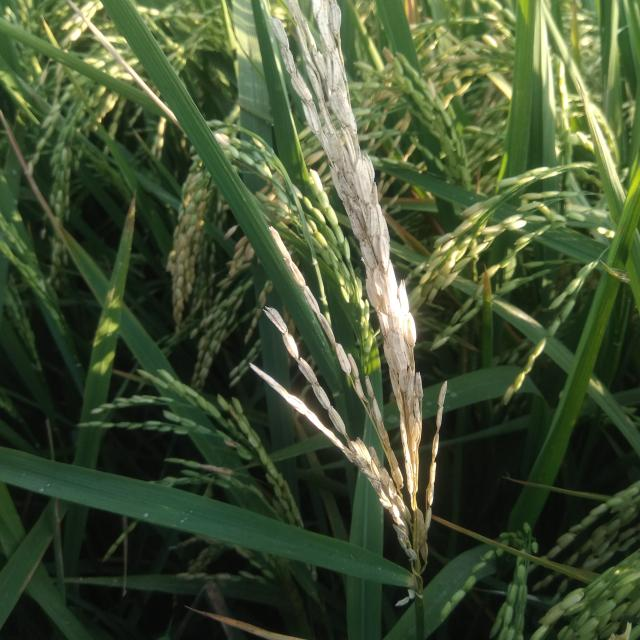Brown spot: (177, 597, 296, 640), (437, 513, 473, 538)
